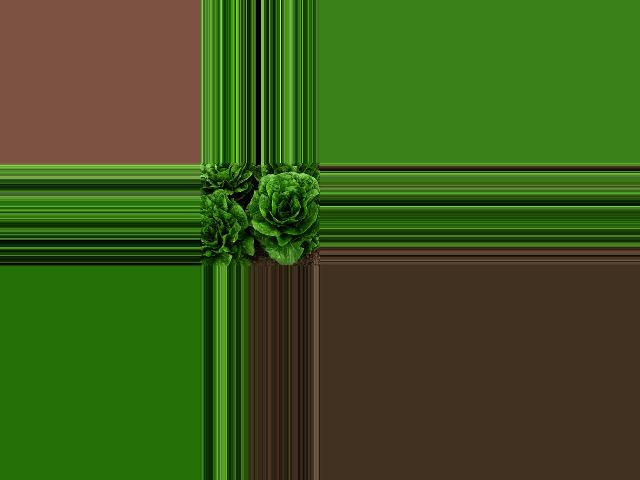lettuce: (199, 189, 247, 263)
